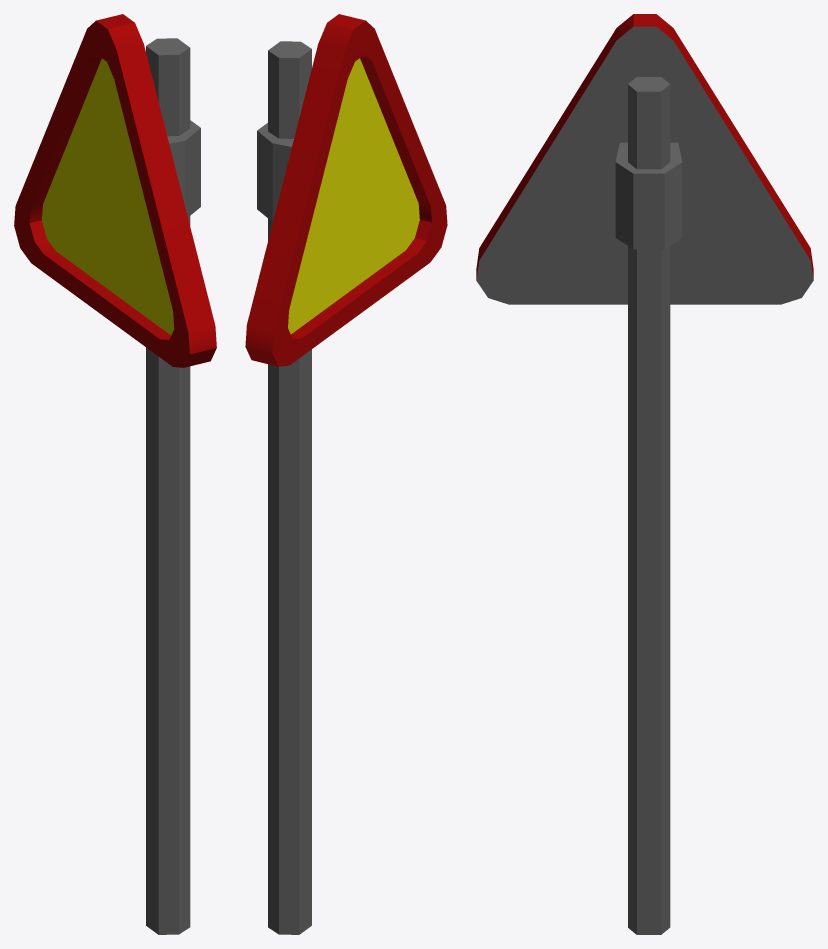
File: WarningSign.fbx
3 views of the same model, side by side, from view 1: azimuth 30°, elevation 25°; view 2: azimuth 150°, elevation 25°; view 3: azimuth 270°, elevation 25° (orthographic). The views are drawn at different scales.
Visible parts, largest first — view 1: polySurface6; view 2: polySurface6; view 3: polySurface6.
Boxes of the visible parts, x1,y1,x2,y2 form: polySurface6: (14,14,216,934); polySurface6: (245,14,447,934); polySurface6: (476,14,813,934).
Bounding box in the file's own units: 25.24 × 239 × 82.72.
